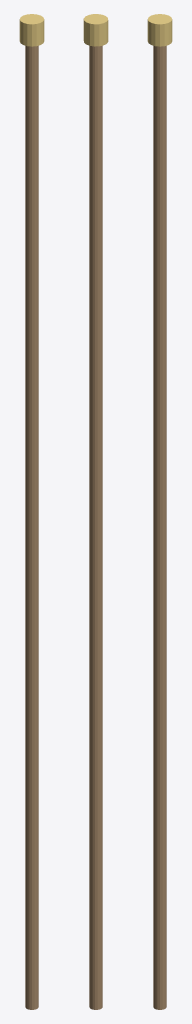
File: pole.glb
3 renders of one model, left to right at view 1: azimuth 90°, elevation 25°; view 2: azimuth 150°, elevation 25°; view 3: azimuth 270°, elevation 25°, orthographic.
Visible parts, largest first — view 1: pole0, pole1; view 2: pole0, pole1; view 3: pole0, pole1.
Part boxes in pixels (x1,y1,x2,y2): pole0: (25, 45, 38, 1009); pole1: (19, 14, 44, 46); pole0: (89, 45, 102, 1009); pole1: (83, 14, 108, 46); pole0: (153, 45, 166, 1009); pole1: (147, 14, 172, 46).
Bounding box in the file's own units: 0.06 × 2.66 × 0.06.
